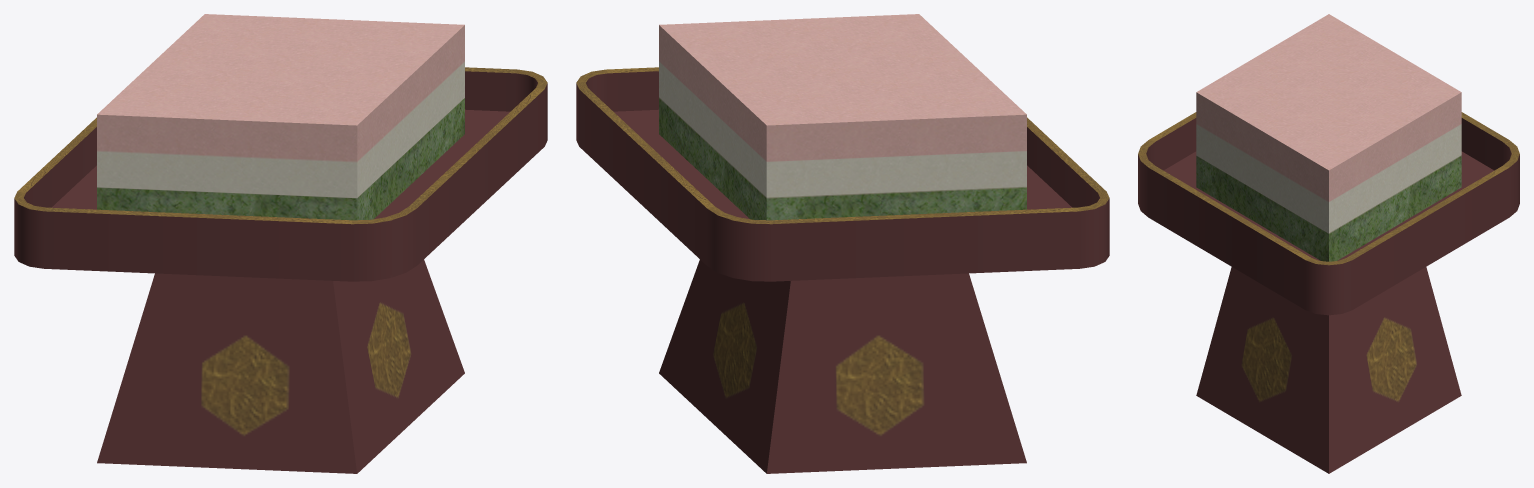
The model's file is Hishimochi01.fbx.
The picture shows the model from 3 angles, left to right: view 1: azimuth 30°, elevation 25°; view 2: azimuth 150°, elevation 25°; view 3: azimuth 270°, elevation 25°; orthographic projection. The views are drawn at different scales.
Parts seen in each view (by area): view 1: Hishimochi01; view 2: Hishimochi01; view 3: Hishimochi01.
Part boxes in pixels (x1,y1,x2,y2): Hishimochi01: [14, 14, 547, 473]; Hishimochi01: [576, 14, 1109, 473]; Hishimochi01: [1138, 14, 1519, 473].
Bounding box in the file's own units: 20.15 × 12.79 × 14.58.
